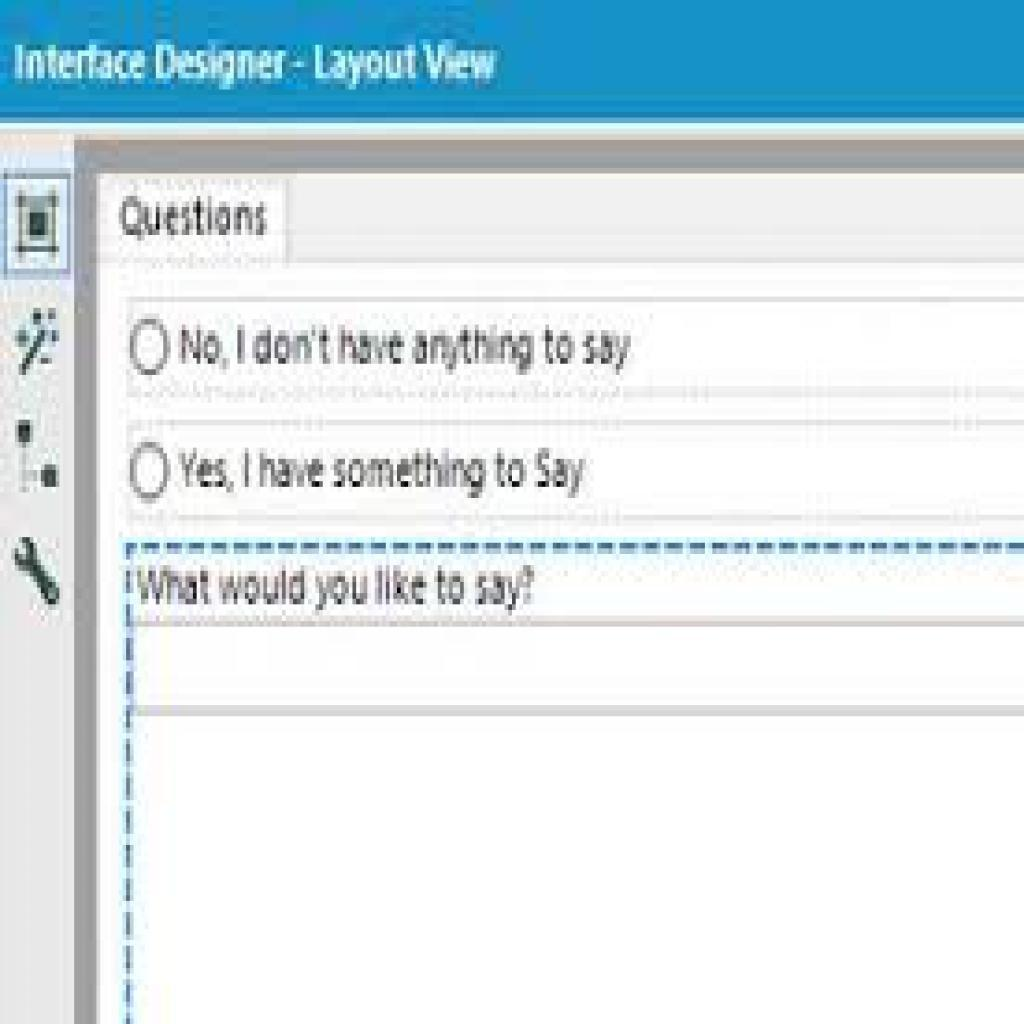icon: (7, 299, 68, 388), (7, 532, 73, 612), (11, 415, 71, 493)
radio: (126, 437, 177, 507), (132, 316, 170, 384)
